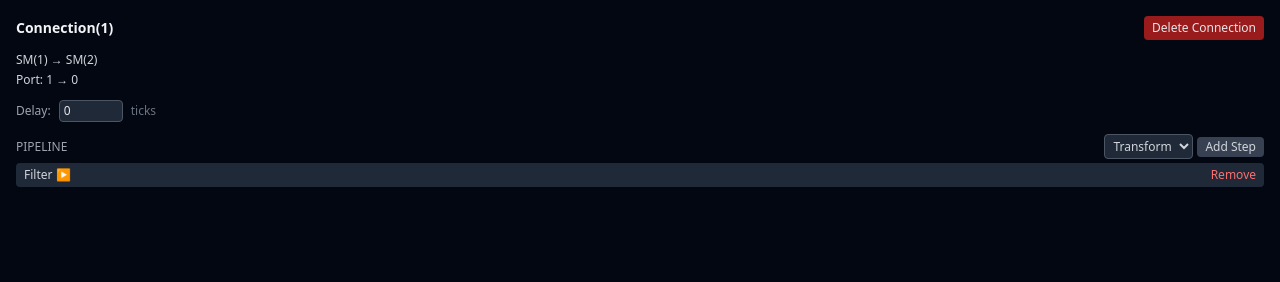
Test: ConnectionEditorPanel › Filter step shows ExpressionBuilder for filter expression
Click the button with aria-label "toggle step 0".
click(47, 175)  # box [24, 167, 71, 183]
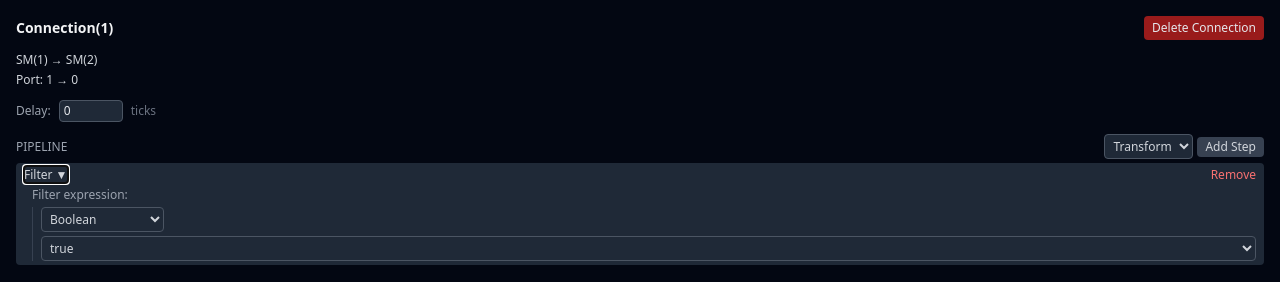
expect the dropdown named "expression type" is shown: met, box [41, 207, 164, 232]
